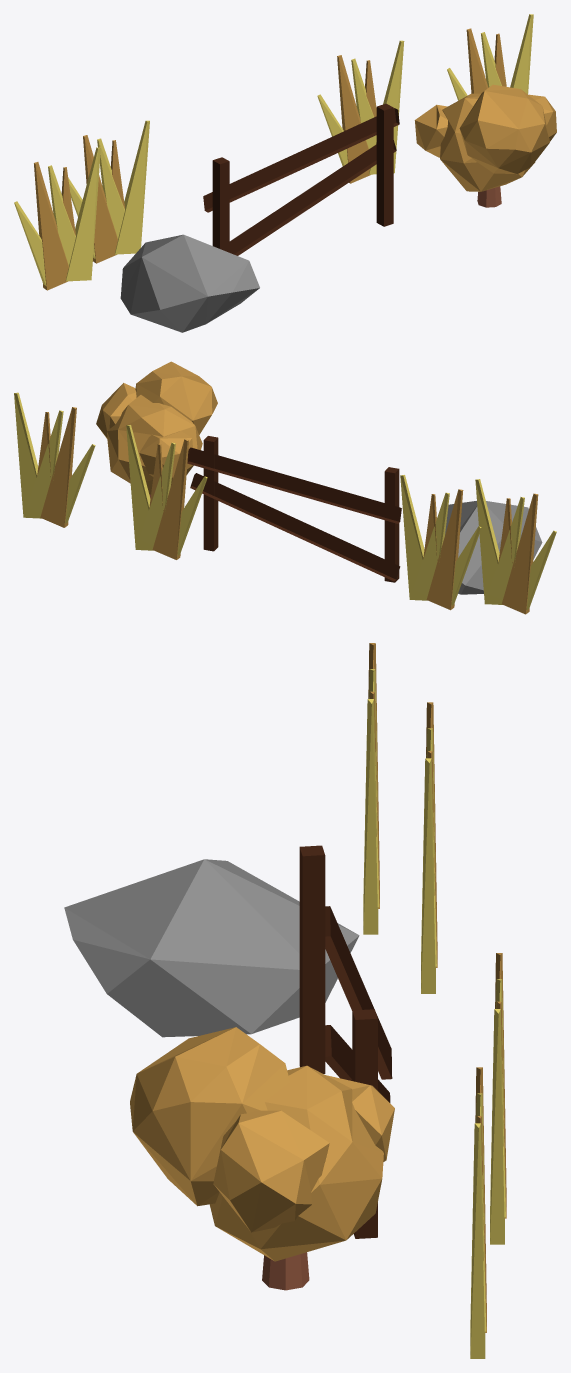
The model's file is comp2_M.gltf.
3 views of the same model, one above another, from view 1: azimuth 30°, elevation 25°; view 2: azimuth 150°, elevation 25°; view 3: azimuth 270°, elevation 25° (orthographic). The views are drawn at different scales.
Visible parts, largest first — view 1: bush_5_autumn_mat, Cube.006, Stone_2_mat, Grass_1_Autumn_2_mat.002, Grass_1_Autumn_2_mat.004, Grass_1_Autumn_2_mat.007, Grass_1_Autumn_2_mat.005; view 2: Cube.006, bush_5_autumn_mat, Grass_1_Autumn_2_mat.005, Grass_1_Autumn_2_mat.007, Grass_1_Autumn_2_mat.004, Grass_1_Autumn_2_mat.002, Stone_2_mat; view 3: bush_5_autumn_mat, Stone_2_mat, Cube.006, Grass_1_Autumn_2_mat.002, Grass_1_Autumn_2_mat.005, Grass_1_Autumn_2_mat.007, Grass_1_Autumn_2_mat.004.
Boxes of the visible parts, x1=… form: bush_5_autumn_mat: x1=414, y1=84, x2=556, y2=207; Cube.006: x1=203, y1=103, x2=399, y2=255; Stone_2_mat: x1=120, y1=234, x2=259, y2=332; Grass_1_Autumn_2_mat.002: x1=14, y1=147, x2=100, y2=290; Grass_1_Autumn_2_mat.004: x1=68, y1=120, x2=149, y2=263; Grass_1_Autumn_2_mat.007: x1=317, y1=40, x2=404, y2=183; Grass_1_Autumn_2_mat.005: x1=447, y1=14, x2=533, y2=100; Cube.006: x1=187, y1=436, x2=401, y2=582; bush_5_autumn_mat: x1=96, y1=361, x2=217, y2=498; Grass_1_Autumn_2_mat.005: x1=14, y1=392, x2=95, y2=527; Grass_1_Autumn_2_mat.007: x1=126, y1=425, x2=207, y2=559; Grass_1_Autumn_2_mat.004: x1=400, y1=475, x2=481, y2=610; Grass_1_Autumn_2_mat.002: x1=475, y1=479, x2=556, y2=614; Stone_2_mat: x1=445, y1=501, x2=542, y2=594; bush_5_autumn_mat: x1=130, y1=1027, x2=394, y2=1290; Stone_2_mat: x1=64, y1=859, x2=359, y2=1037; Cube.006: x1=299, y1=845, x2=392, y2=1238; Grass_1_Autumn_2_mat.002: x1=363, y1=643, x2=379, y2=934; Grass_1_Autumn_2_mat.005: x1=470, y1=1067, x2=486, y2=1358; Grass_1_Autumn_2_mat.007: x1=490, y1=953, x2=506, y2=1244; Grass_1_Autumn_2_mat.004: x1=421, y1=702, x2=437, y2=993.
Size of the model in its own units: 6 by 1.51 by 2.23.
